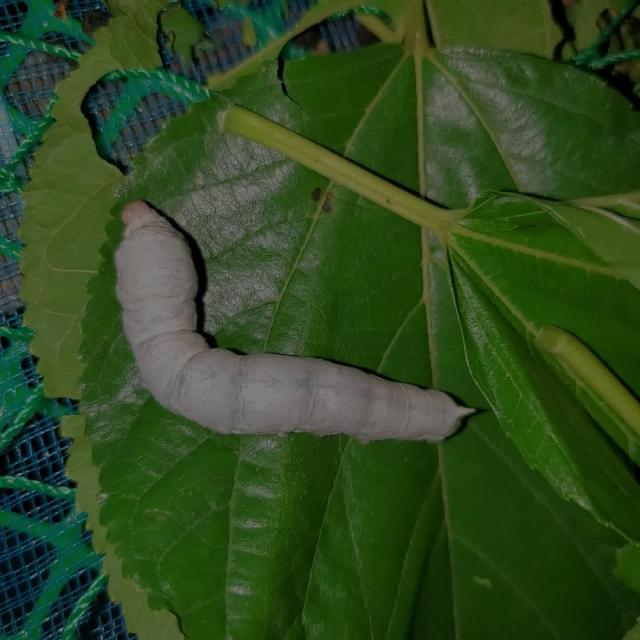Healthy: (85, 174, 491, 474)
